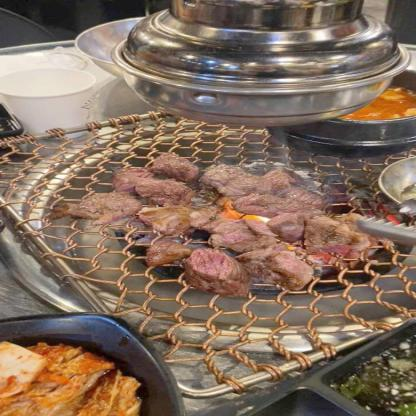Carne: (164, 244, 256, 294), (211, 168, 296, 216), (271, 211, 353, 256), (240, 245, 316, 288), (111, 206, 200, 233), (112, 170, 179, 204), (61, 189, 142, 217), (110, 177, 195, 201), (180, 205, 231, 239), (149, 148, 194, 176)
